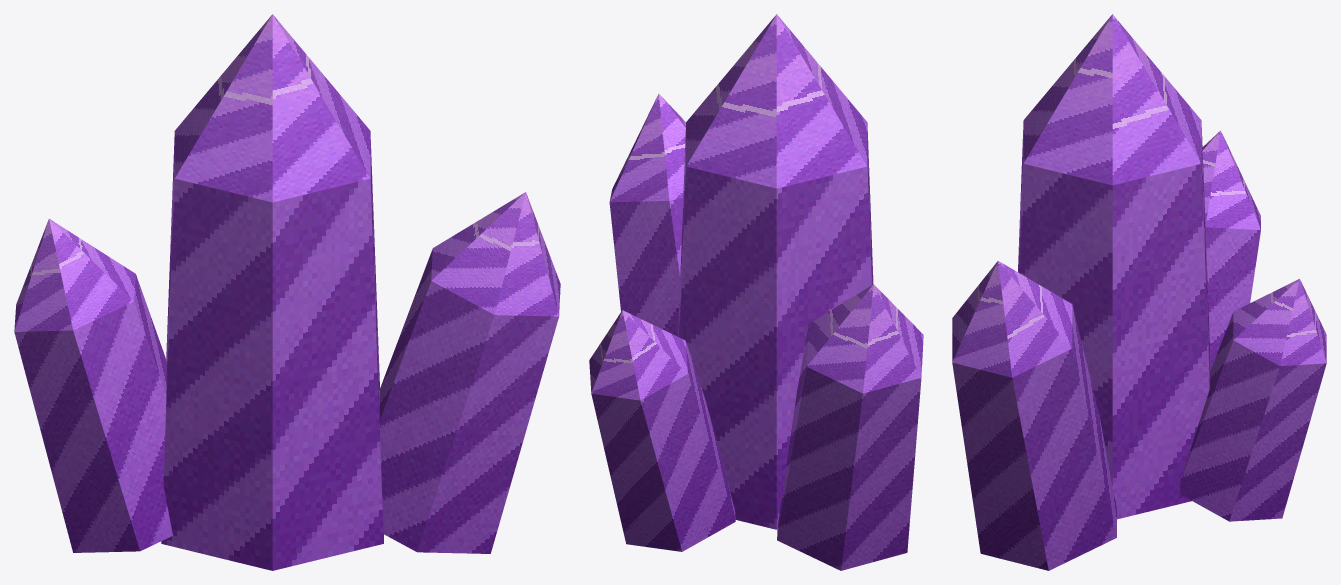
The model's file is cristal_ametista.glb.
3 renders of one model, left to right at view 1: azimuth 30°, elevation 25°; view 2: azimuth 150°, elevation 25°; view 3: azimuth 270°, elevation 25°, orthographic. The views are drawn at different scales.
Visible parts, largest first — view 1: cristal_ametista; view 2: cristal_ametista; view 3: cristal_ametista.
Boxes of the visible parts, left/top/right/bottom form: cristal_ametista: left=14, top=14, right=560, bottom=570; cristal_ametista: left=589, top=14, right=923, bottom=570; cristal_ametista: left=952, top=14, right=1326, bottom=570.
Bounding box in the file's own units: 0.8705 × 0.9874 × 0.7053.
Materials: 1 (1 with a texture image).
